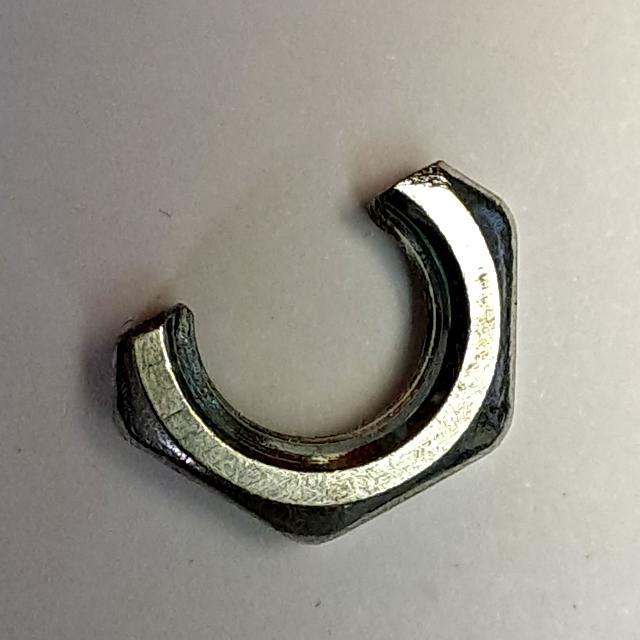Fracture: (94, 148, 536, 562)
